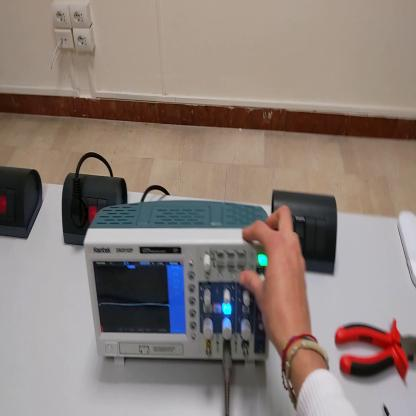hand: (239, 207, 314, 357)
oscilloscope: (83, 199, 268, 365)
pliers: (333, 318, 416, 380)
screwdriver-: (383, 402, 392, 416)
socket: (61, 174, 129, 248), (2, 165, 45, 242)
